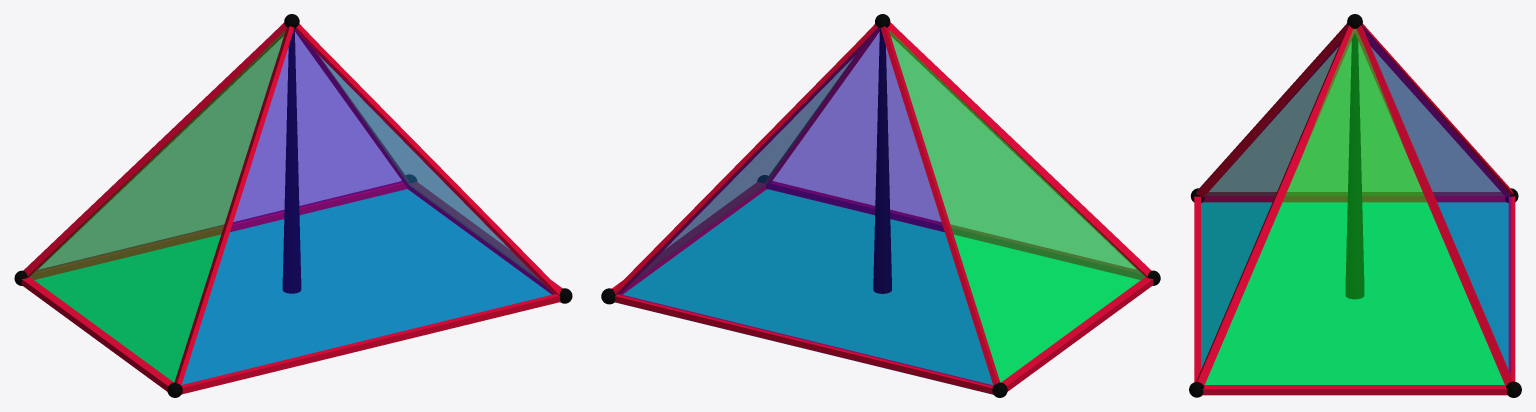
The model's file is limas.glb.
3 views of the same model, side by side, from view 1: azimuth 30°, elevation 25°; view 2: azimuth 150°, elevation 25°; view 3: azimuth 270°, elevation 25° (orthographic). The views are drawn at different scales.
Visible parts, largest first — view 1: Plane.021, Plane.023, Plane.020, Plane.022, Cube.024, Plane.004, Plane.002, Circle.013, Plane.006, Plane.007, Plane.001; view 2: Plane.022, Plane.023, Plane.021, Plane.020, Cube.024, Plane.004, Plane.007, Circle.013, Plane.001, Plane.002, Plane.006; view 3: Plane.004, Plane.023, Plane.020, Plane.022, Plane.021, Cube.024, Plane.006, Plane.001, Circle.013, Plane.007, Plane.002.
Boxes of the visible parts, x1,y1,x2,y2 form: Plane.021: (182, 29, 553, 384); Plane.023: (34, 189, 551, 384); Plane.020: (29, 30, 285, 382); Plane.022: (36, 32, 402, 271); Cube.024: (21, 181, 562, 394); Plane.004: (319, 56, 543, 283); Plane.002: (23, 22, 286, 276); Circle.013: (282, 29, 301, 293); Plane.006: (295, 24, 561, 294); Plane.007: (174, 26, 294, 385); Plane.001: (295, 31, 409, 187); Plane.022: (617, 28, 992, 385); Plane.023: (619, 189, 1140, 394); Plane.021: (766, 32, 1144, 278); Plane.020: (889, 30, 1145, 382); Cube.024: (612, 181, 1153, 394); Plane.004: (632, 54, 856, 282); Plane.007: (888, 22, 1151, 276); Circle.013: (873, 29, 891, 293); Plane.001: (613, 24, 879, 294); Plane.002: (880, 26, 1000, 385); Plane.006: (764, 31, 879, 186); Plane.004: (1205, 29, 1504, 384); Plane.023: (1201, 202, 1508, 384); Plane.020: (1205, 42, 1503, 195); Plane.022: (1362, 26, 1510, 374); Plane.021: (1201, 42, 1340, 368); Cube.024: (1194, 192, 1515, 395); Plane.006: (1196, 25, 1354, 385); Plane.001: (1355, 25, 1513, 385); Circle.013: (1345, 33, 1364, 299); Plane.007: (1196, 23, 1347, 197); Plane.002: (1362, 23, 1513, 197).
Bounding box in the file's own units: 4.97 × 3.3 × 3.49.
